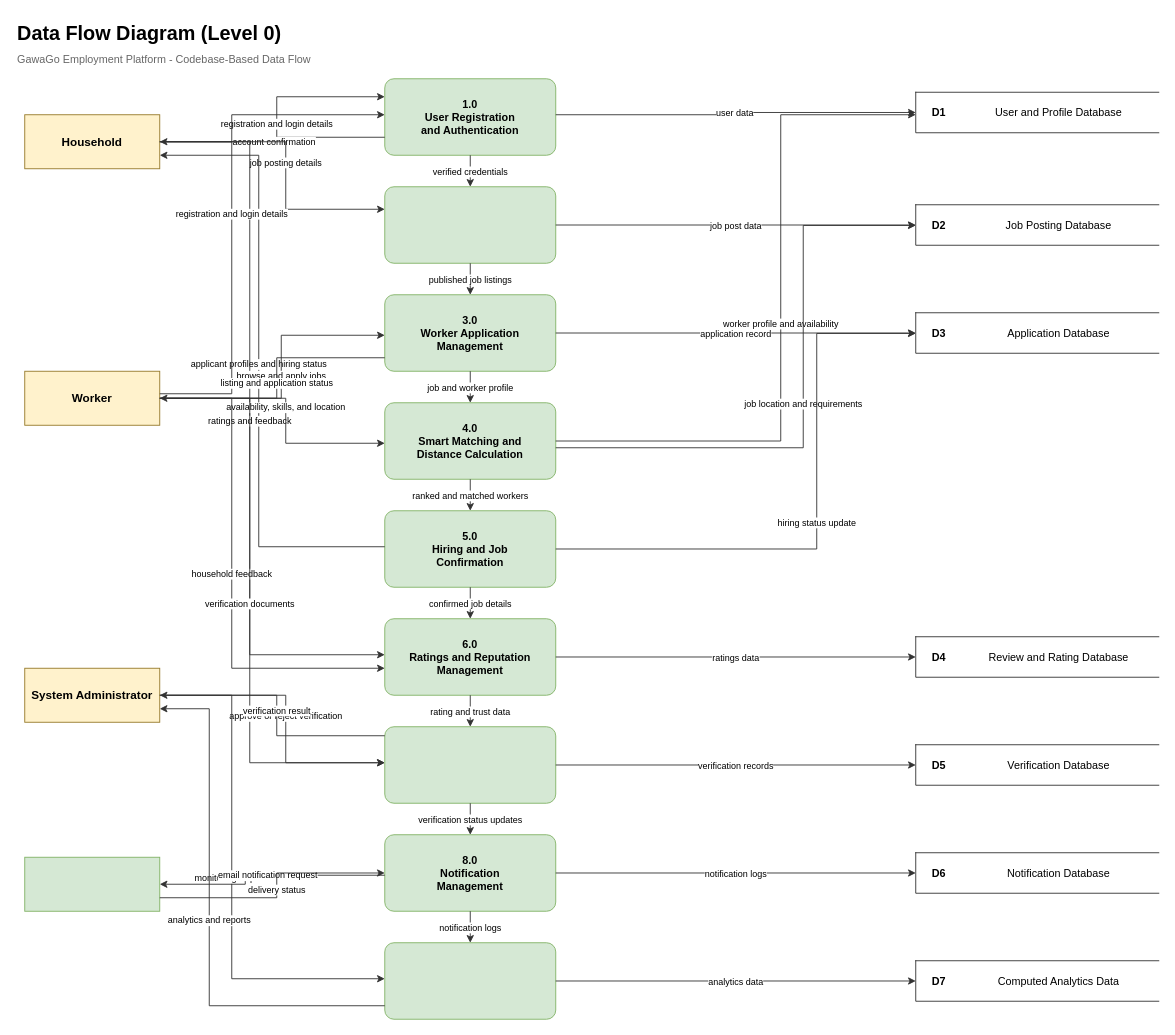
Some shapes in this 1175 by 1035 pixel diagram are drawn without their labels. The shapes that lost their labels are listed below. From the top down, each one's box as (x1, y1, x2, y2) in pixels, then its label:
(384, 186, 556, 263): 2.0 Job Posting Management
(384, 726, 556, 803): 7.0 Verification Management
(24, 856, 160, 911): Email Notification Service
(384, 942, 556, 1019): 9.0 Employment Analytics and Reporting
